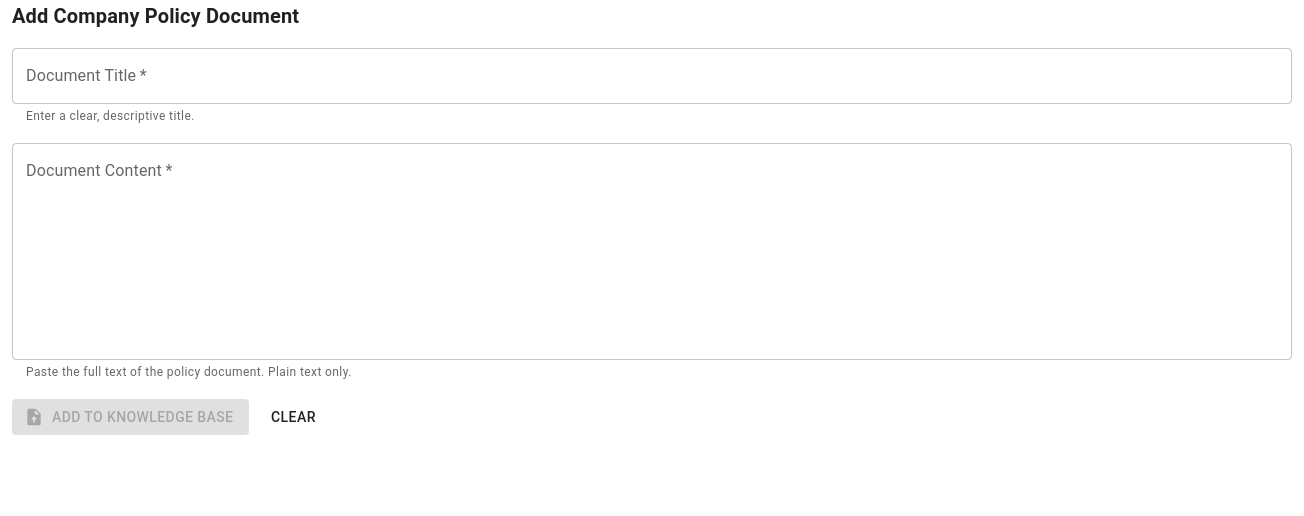
it: CompanyPolicyForm › Submission › shows success banner after successful submission
In the field labelled "Document Title *": [652, 76] box [12,48,1292,104], type "Employee Attendance Policy"
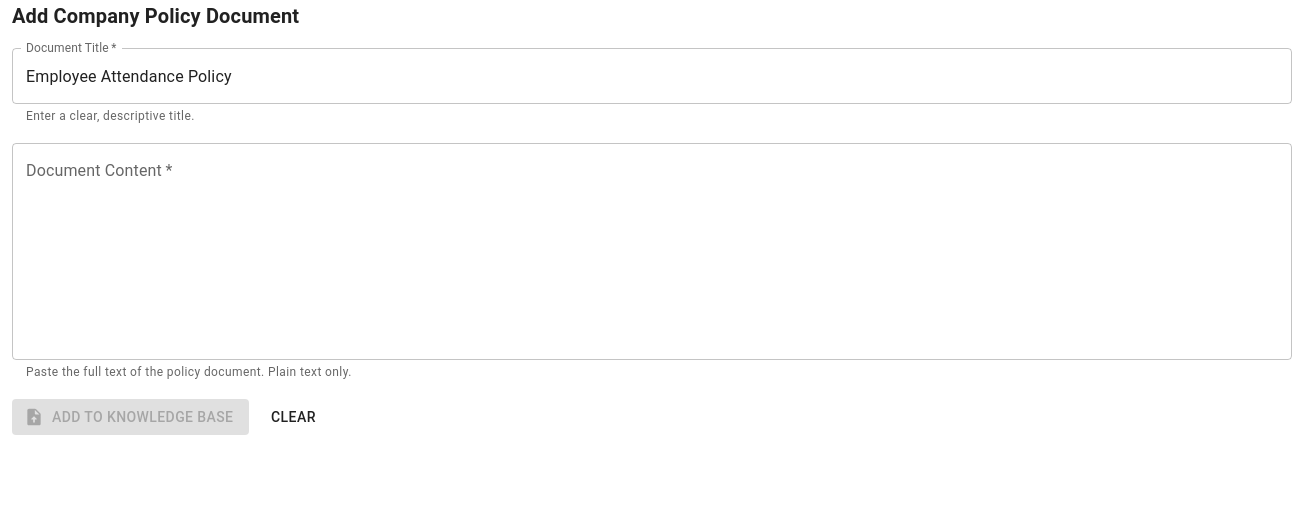
In the text box labelled "Document Content *": [652, 251] box [26,159,1278,343], type "Employees must record attendance daily through the portal."
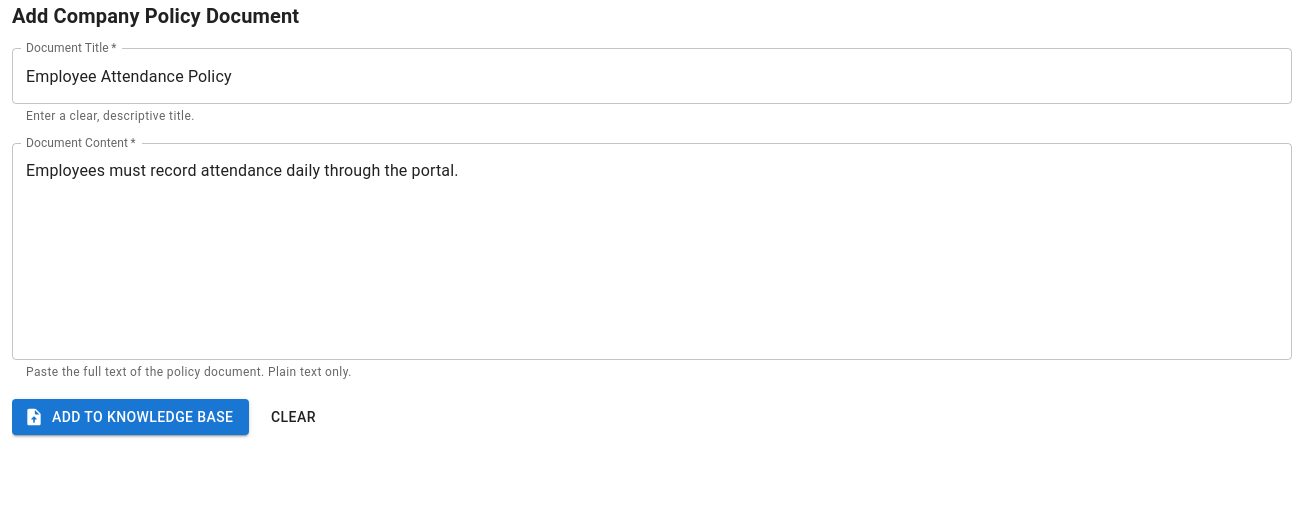
Click the button with aria-label "submit document": [131, 417] box [12,399,249,435]
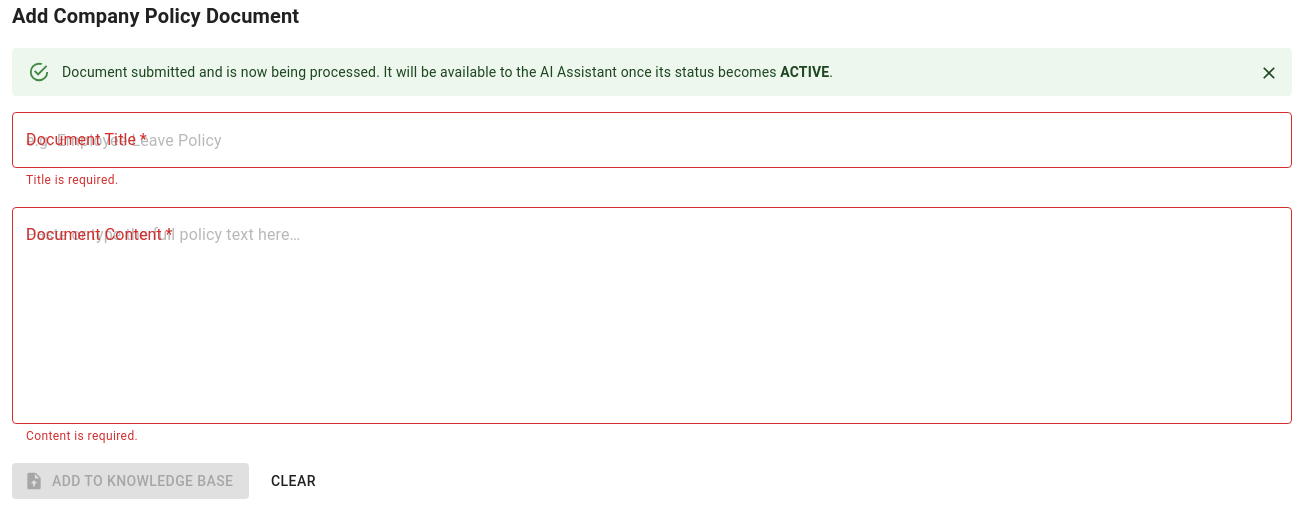
Check: the message named "document submitted successfully" is shown, box [12,48,1292,96]
